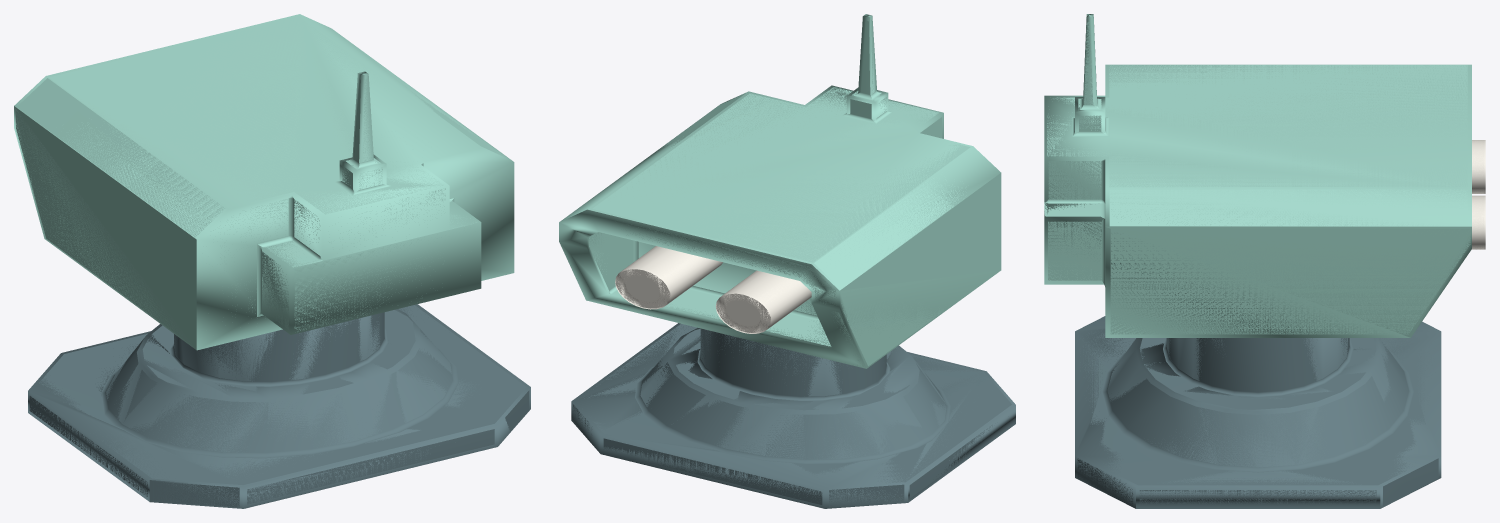
File: space-kit__turret_single.glb
3 views of the same model, side by side, from view 1: azimuth 30°, elevation 25°; view 2: azimuth 150°, elevation 25°; view 3: azimuth 270°, elevation 25° (orthographic). The views are drawn at different scales.
Parts seen in each view (by area): view 1: L1_accent, L0_accent, L0_dark, L1_dark; view 2: L1_accent, L0_accent, L0_dark, L1_dark, L0_ivory, L1_ivory; view 3: L0_accent, L1_accent, L0_dark, L1_dark, L0_ivory, L1_ivory.
Boxes of the visible parts, x1,y1,x2,y2 form: L1_accent: (14,14,514,350); L0_accent: (16,16,510,346); L0_dark: (29,305,529,507); L1_dark: (28,304,530,508); L1_accent: (559,14,1001,368); L0_accent: (589,20,976,366); L0_dark: (572,323,1011,507); L1_dark: (571,323,1015,508); L0_ivory: (615,246,811,332); L1_ivory: (615,249,811,333); L0_accent: (1044,21,1470,334); L1_accent: (1044,14,1471,337); L0_dark: (1077,331,1438,506); L1_dark: (1075,316,1441,508); L0_ivory: (1472,140,1484,249); L1_ivory: (1472,140,1485,249).
Bounding box in the file's own units: 1 × 1 × 1.
